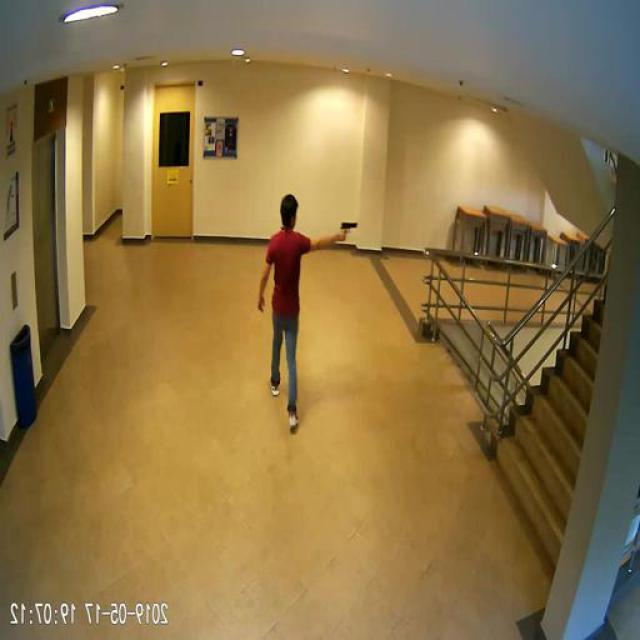Gun: (344, 219, 360, 240)
